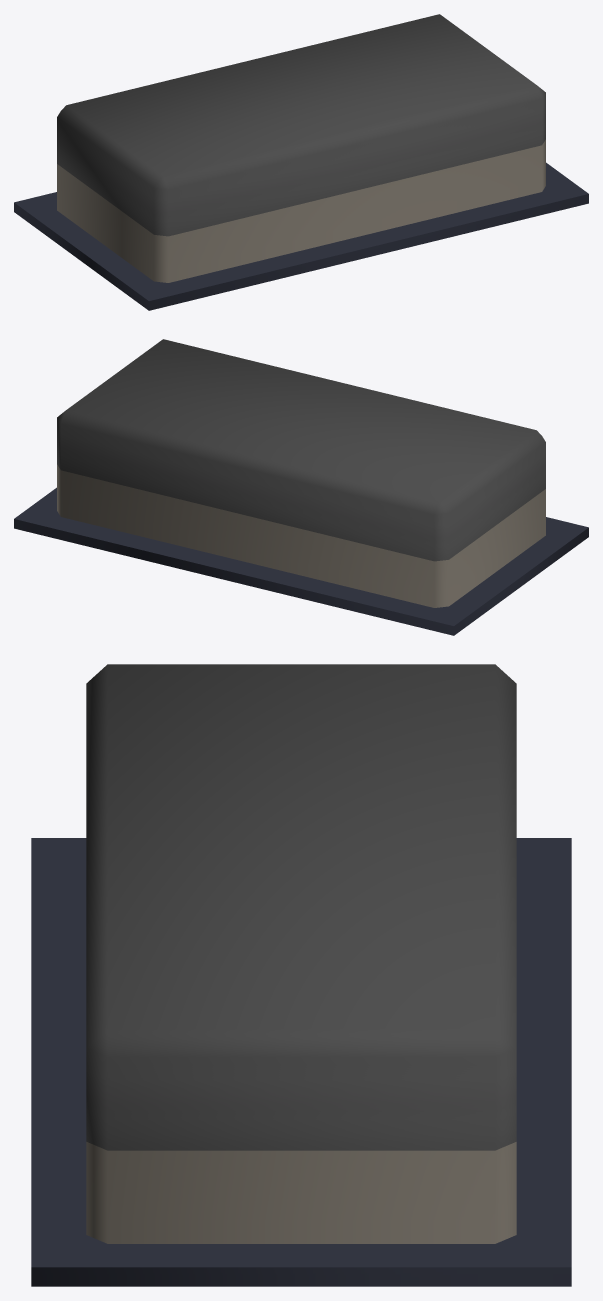
File: RoofAdd_2_A_2.fbx
The picture shows the model from 3 angles, top to bottom: view 1: azimuth 30°, elevation 25°; view 2: azimuth 150°, elevation 25°; view 3: azimuth 270°, elevation 25°; orthographic projection. The views are drawn at different scales.
Parts seen in each view (by area): view 1: RoofAdd_2_A_2; view 2: RoofAdd_2_A_2; view 3: RoofAdd_2_A_2.
Boxes of the visible parts, bbox=[...] form: RoofAdd_2_A_2: bbox=[14, 14, 588, 310]; RoofAdd_2_A_2: bbox=[14, 339, 588, 635]; RoofAdd_2_A_2: bbox=[31, 664, 571, 1286].
Size of the model in its own units: 303 by 74.17 by 161.
